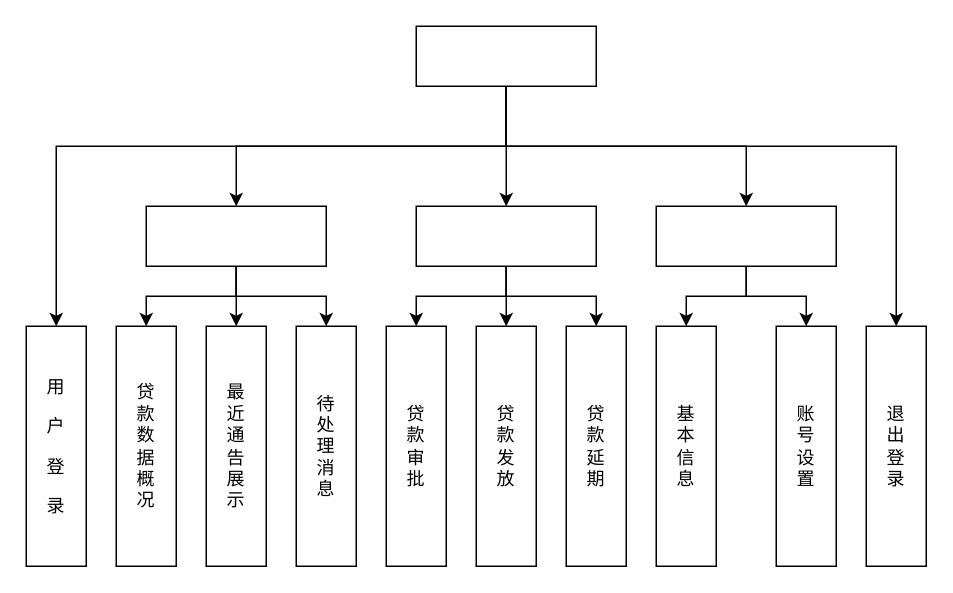
This 953x593 diagram has some shape labels left out. The shapes that lost their labels are listed below. From the top down, each one's centre as x and y in pixels, then its label:
point 505,55: 教师功能
point 235,235: 首页
point 505,235: 贷款审核
point 745,235: 我的信息
